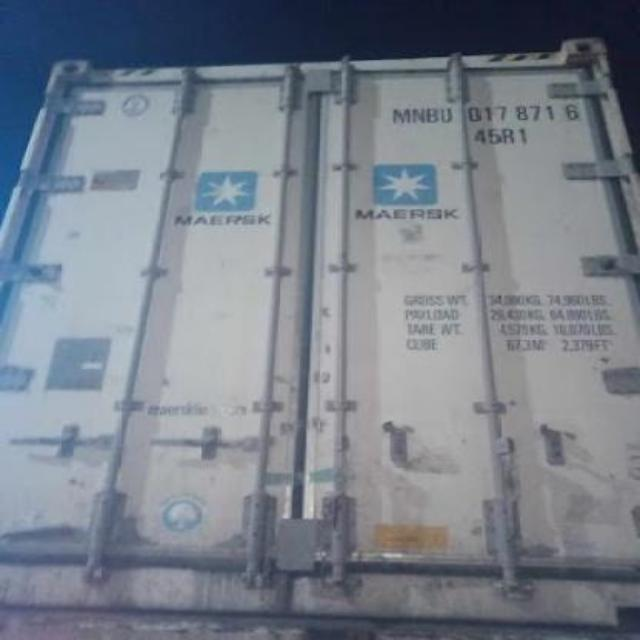0: (466, 105, 482, 123)
1: (542, 104, 558, 120), (484, 105, 496, 123)
6: (564, 103, 580, 123)
7: (496, 104, 508, 125), (530, 103, 542, 121)
8: (514, 101, 532, 122)
B: (424, 103, 440, 123)
M: (392, 108, 410, 122)
N: (412, 106, 424, 124)
U: (440, 107, 452, 123)
